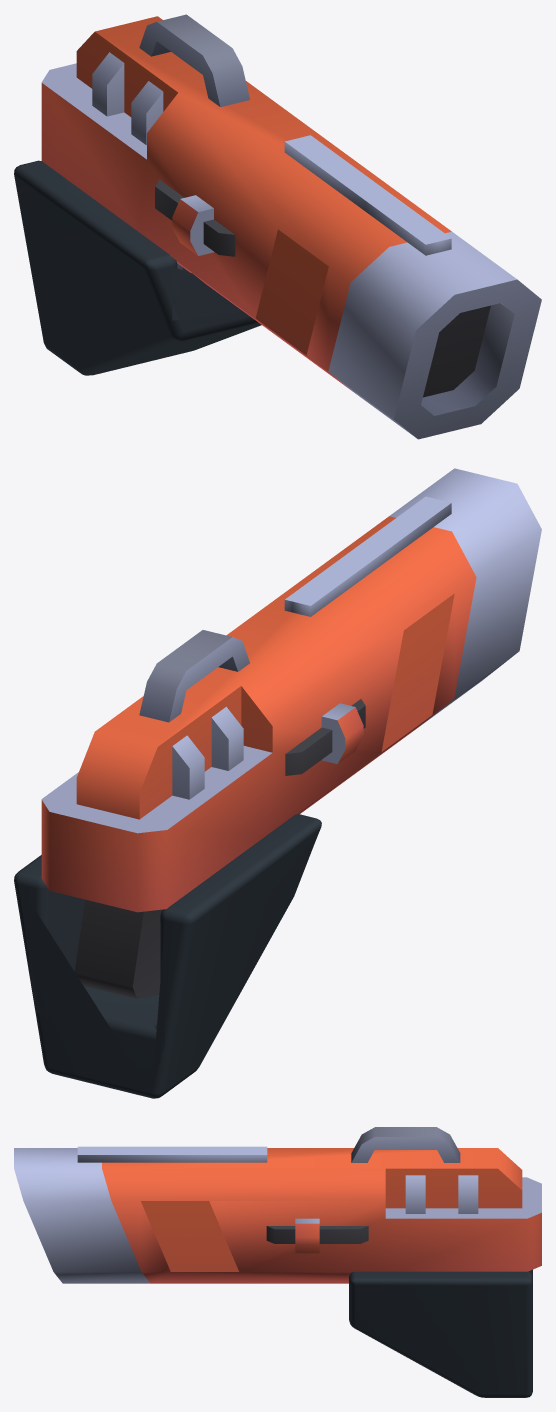
Rendered from pulse-mounted.glb.
3 views of the same model, one above another, from view 1: azimuth 30°, elevation 25°; view 2: azimuth 150°, elevation 25°; view 3: azimuth 270°, elevation 25° (orthographic). The views are drawn at different scales.
Parts seen in each view (by area): view 1: PulseHousing, PulseSaddle; view 2: PulseHousing, PulseSaddle; view 3: PulseHousing, PulseSaddle.
Boxes of the visible parts, x1,y1,x2,y2 form: PulseHousing: (41,14,541,439); PulseSaddle: (14,160,261,375); PulseHousing: (41,468,541,998); PulseSaddle: (14,814,321,1098); PulseHousing: (14,1127,541,1283); PulseSaddle: (349,1269,532,1397).
Size of the model in its own units: 0.3837 by 0.754 by 1.45.
2 materials, 1 textured.
